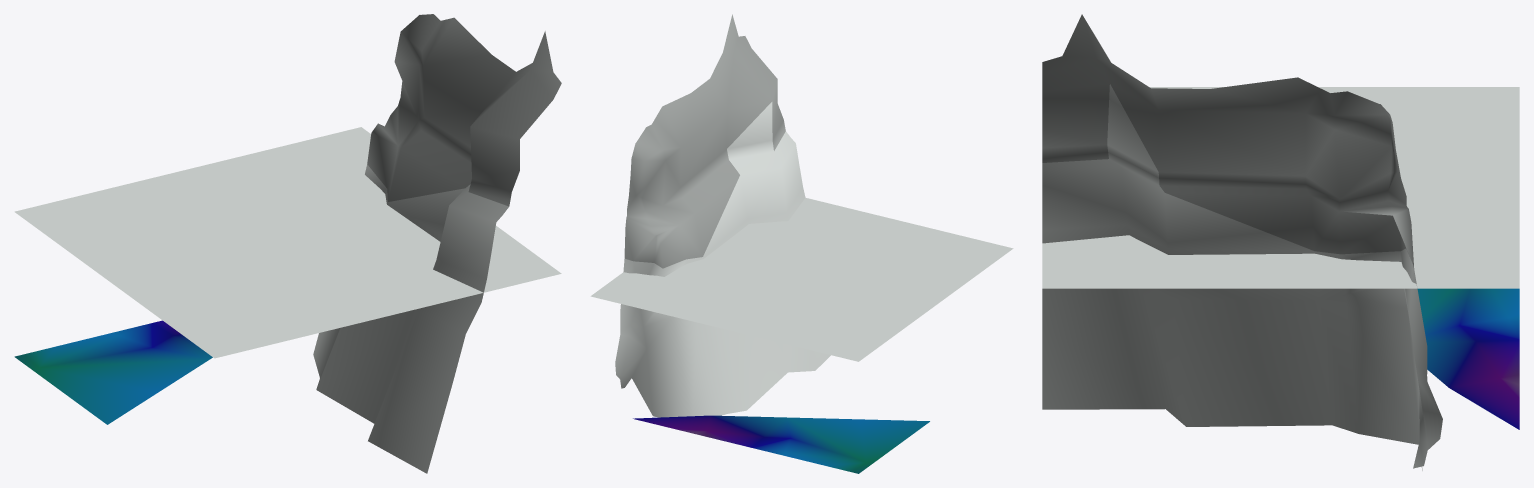
3 renders of one model, left to right at view 1: azimuth 30°, elevation 25°; view 2: azimuth 150°, elevation 25°; view 3: azimuth 270°, elevation 25°, orthographic. The views are drawn at different scales.
Visible parts, largest first — view 1: G:\FFXIV-MapTools\exports\w1f5\bg\ffxiv\wil_w1\fld\w1f5\bgpl (×4); view 2: G:\FFXIV-MapTools\exports\w1f5\bg\ffxiv\wil_w1\fld\w1f5\bgpl (×4); view 3: G:\FFXIV-MapTools\exports\w1f5\bg\ffxiv\wil_w1\fld\w1f5\bgpl (×4).
Boxes of the visible parts, box(x1,y1,x2,y2) form: G:\FFXIV-MapTools\exports\w1f5\bg\ffxiv\wil_w1\fld\w1f5\bgpl (×4): box(14, 14, 561, 473); G:\FFXIV-MapTools\exports\w1f5\bg\ffxiv\wil_w1\fld\w1f5\bgpl (×4): box(590, 14, 1013, 473); G:\FFXIV-MapTools\exports\w1f5\bg\ffxiv\wil_w1\fld\w1f5\bgpl (×4): box(1042, 14, 1519, 470).
Bounding box in the file's own units: 128 × 143 × 128.
